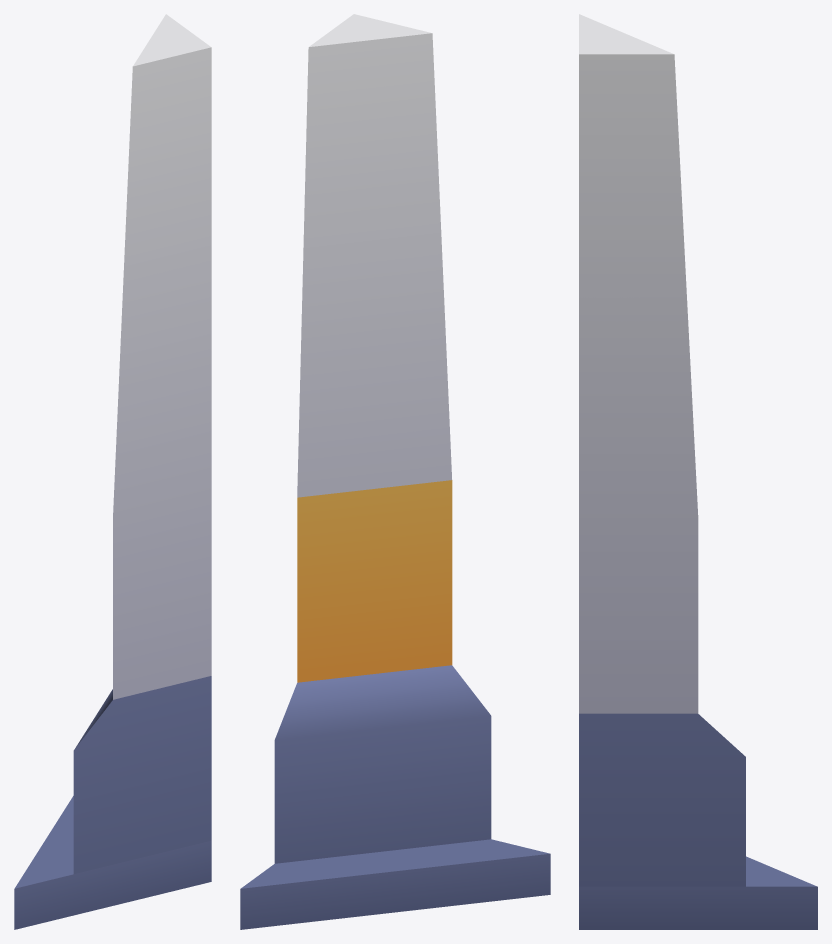
File: kenney-space-template-wall-corner.glb
3 views of the same model, side by side, from view 1: azimuth 30°, elevation 25°; view 2: azimuth 150°, elevation 25°; view 3: azimuth 270°, elevation 25° (orthographic). The views are drawn at different scales.
Visible parts, largest first — view 1: template-wall-corner; view 2: template-wall-corner; view 3: template-wall-corner.
Boxes of the visible parts, x1,y1,x2,y2 form: template-wall-corner: (14,14,211,929); template-wall-corner: (240,14,550,929); template-wall-corner: (579,14,817,929).
Bounding box in the file's own units: 0.7507 × 3.04 × 0.7507.
Materials: 1 (1 with a texture image).
